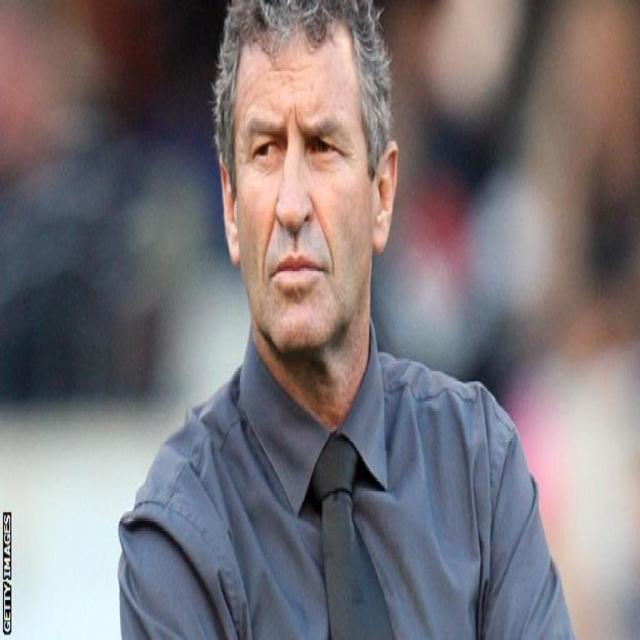Face: (225, 25, 404, 374)
